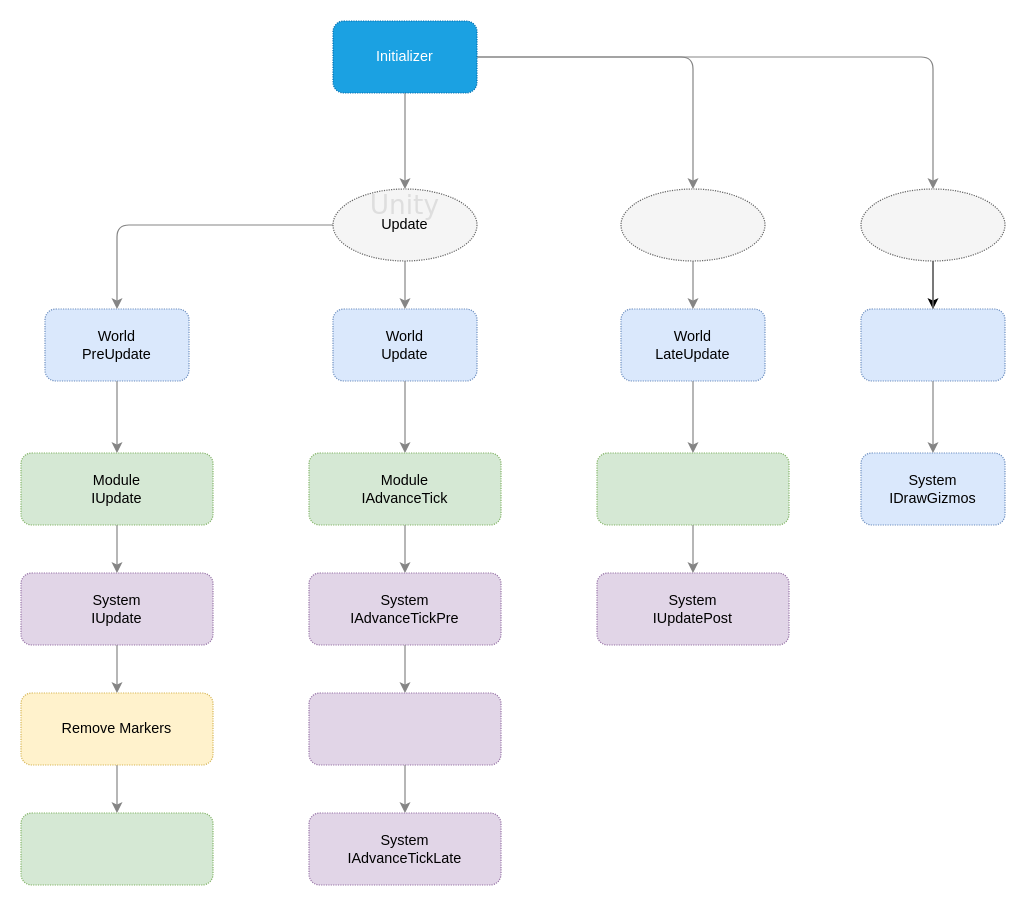
The diagram is 1026 pixels wide and 906 high, and some of its shapes have lost their labels. The centre of each missing label's shape, as x and y in pixels:
Module IDrawGizmos: the point at 932,344
Module IUpdateLate: the point at 116,848
Module IUpdatePost: the point at 692,488
System IAdvanceTick: the point at 404,728
Unity LateUpdate: the point at 692,224
Unity OnDragGizmos: the point at 932,224
